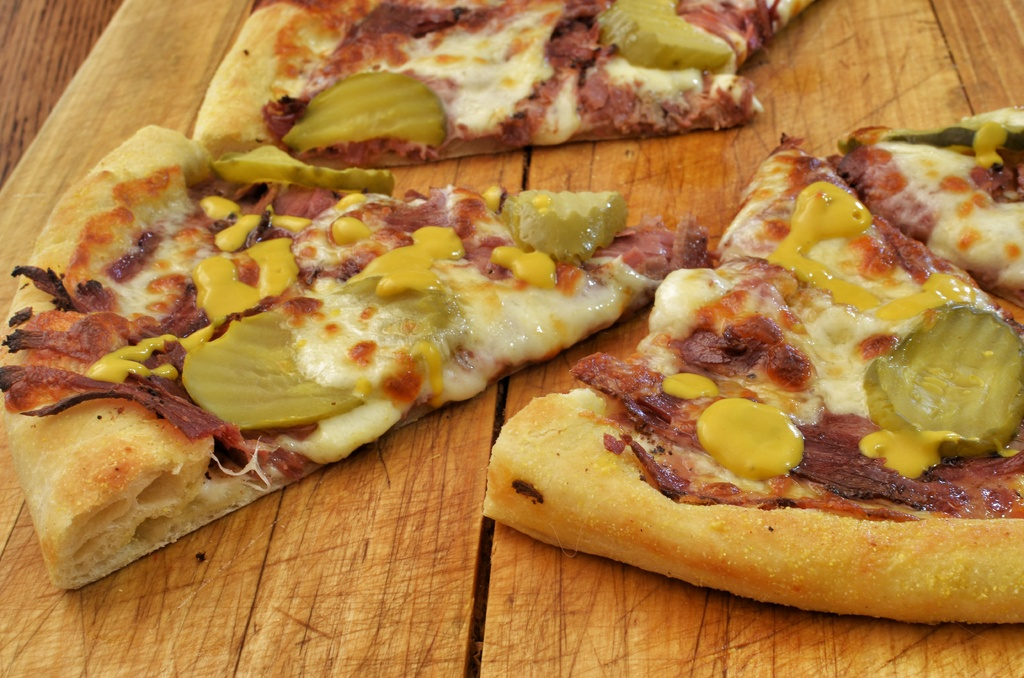Pizza: (3, 67, 753, 599), (481, 99, 1023, 619), (193, 0, 826, 135)
